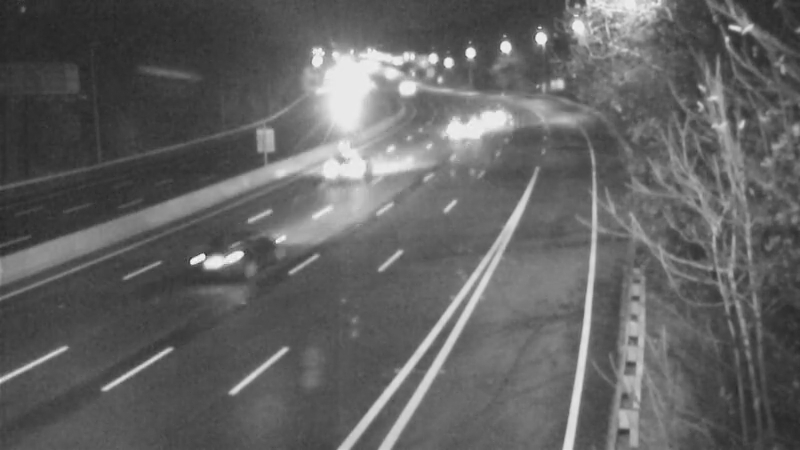vehicle: (312, 131, 392, 211), (180, 224, 260, 304), (381, 60, 431, 110), (462, 87, 512, 137), (435, 100, 485, 150)
